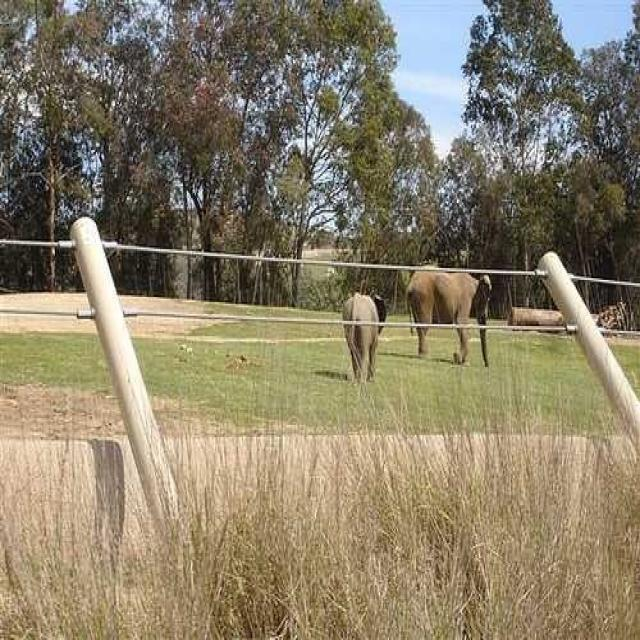Elephant: (406, 264, 492, 367), (344, 292, 387, 384)
